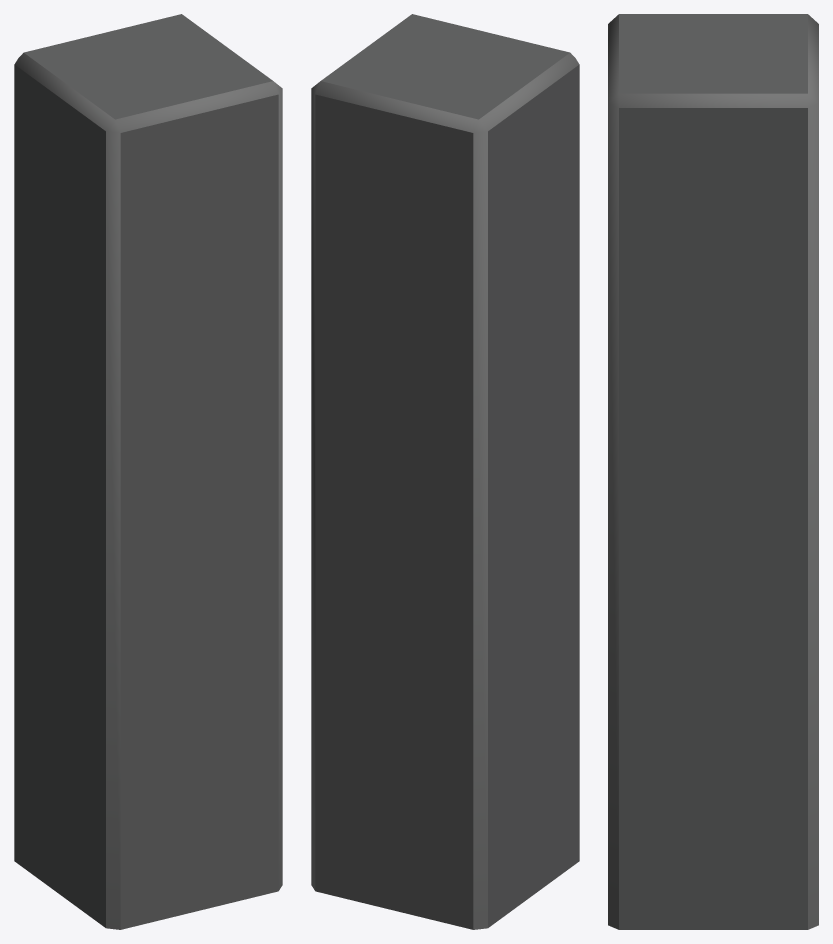
Rendered from Pilar_B_1.obj.
The picture shows the model from 3 angles, left to right: view 1: azimuth 30°, elevation 25°; view 2: azimuth 150°, elevation 25°; view 3: azimuth 270°, elevation 25°; orthographic projection. The views are drawn at different scales.
Parts seen in each view (by area): view 1: Pilar_B_1; view 2: Pilar_B_1; view 3: Pilar_B_1.
Boxes of the visible parts, x1,y1,x2,y2 form: Pilar_B_1: (14, 14, 282, 929); Pilar_B_1: (311, 14, 579, 929); Pilar_B_1: (608, 14, 818, 929).
Size of the model in its own units: 0.5496 by 2.4 by 0.551.
